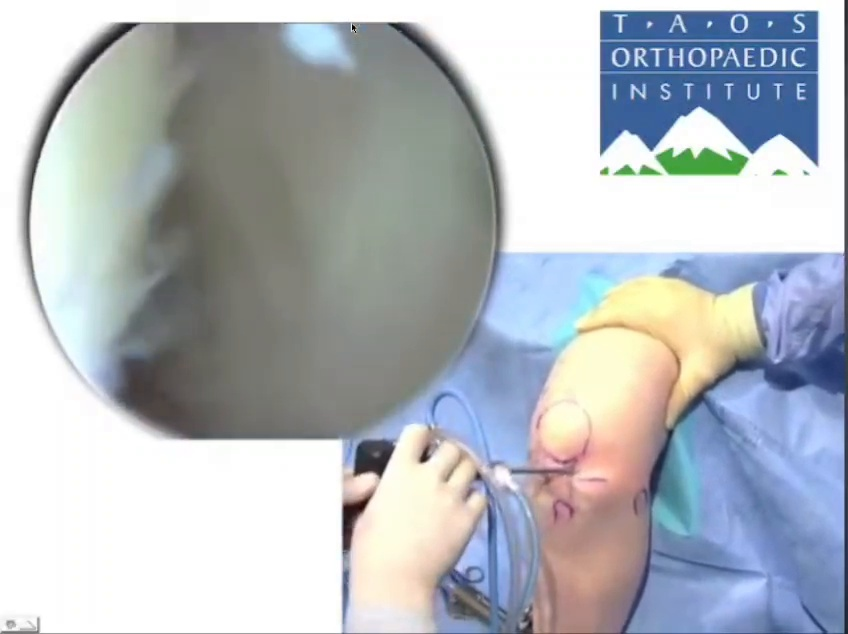arthroscope: (32, 0, 424, 410)
probe: (183, 378, 424, 464)
